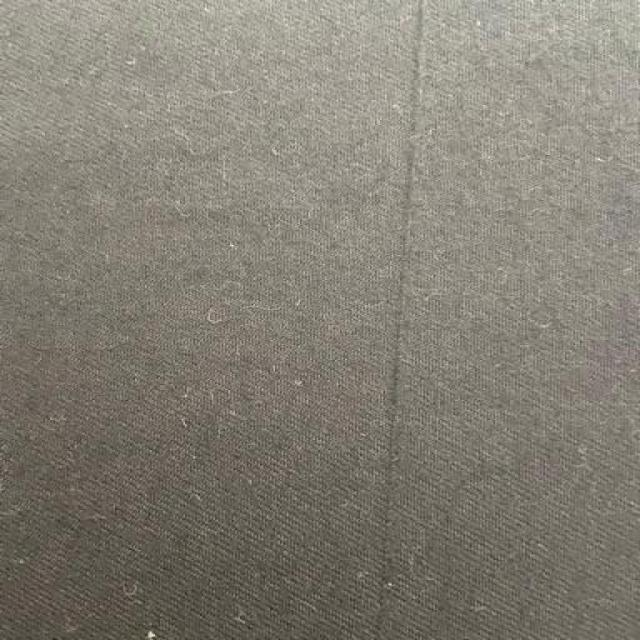defect: (361, 0, 431, 640)
